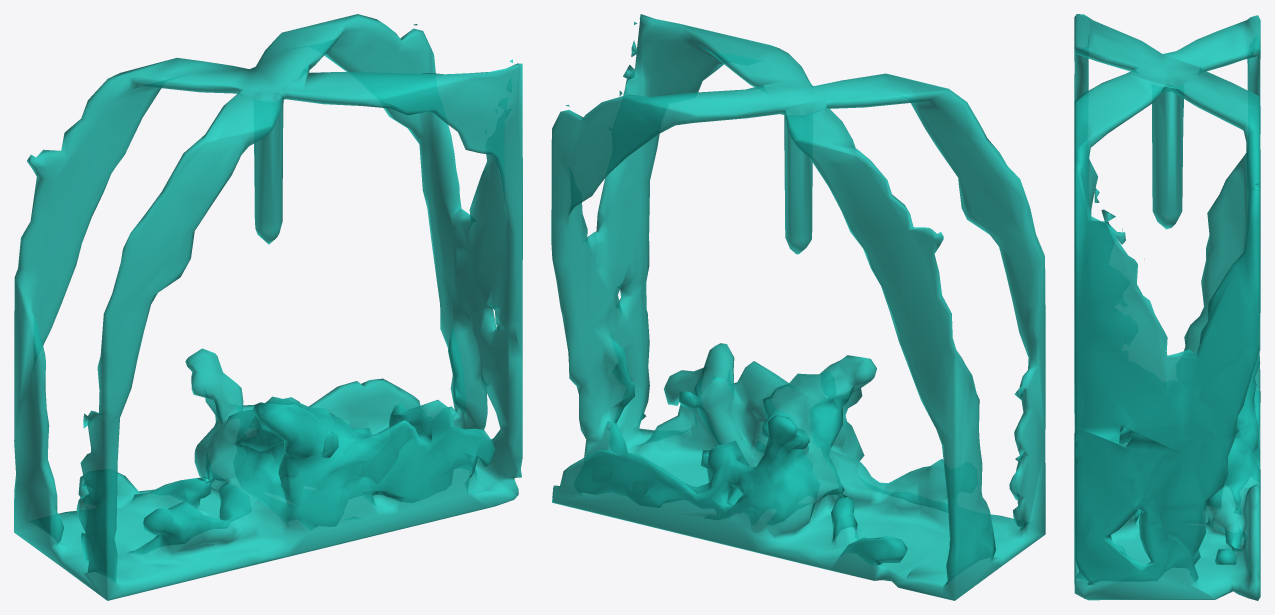
3 views of the same model, side by side, from view 1: azimuth 30°, elevation 25°; view 2: azimuth 150°, elevation 25°; view 3: azimuth 270°, elevation 25° (orthographic). The views are drawn at different scales.
Visible parts, largest first — view 1: Liquid_Domain; view 2: Liquid_Domain; view 3: Liquid_Domain.
Part boxes in pixels (left/top/right/bottom): Liquid_Domain: left=14, top=14, right=522, bottom=600; Liquid_Domain: left=551, top=14, right=1045, bottom=600; Liquid_Domain: left=1074, top=14, right=1260, bottom=600.
Size of the model in its own units: 885 by 885 by 345.
